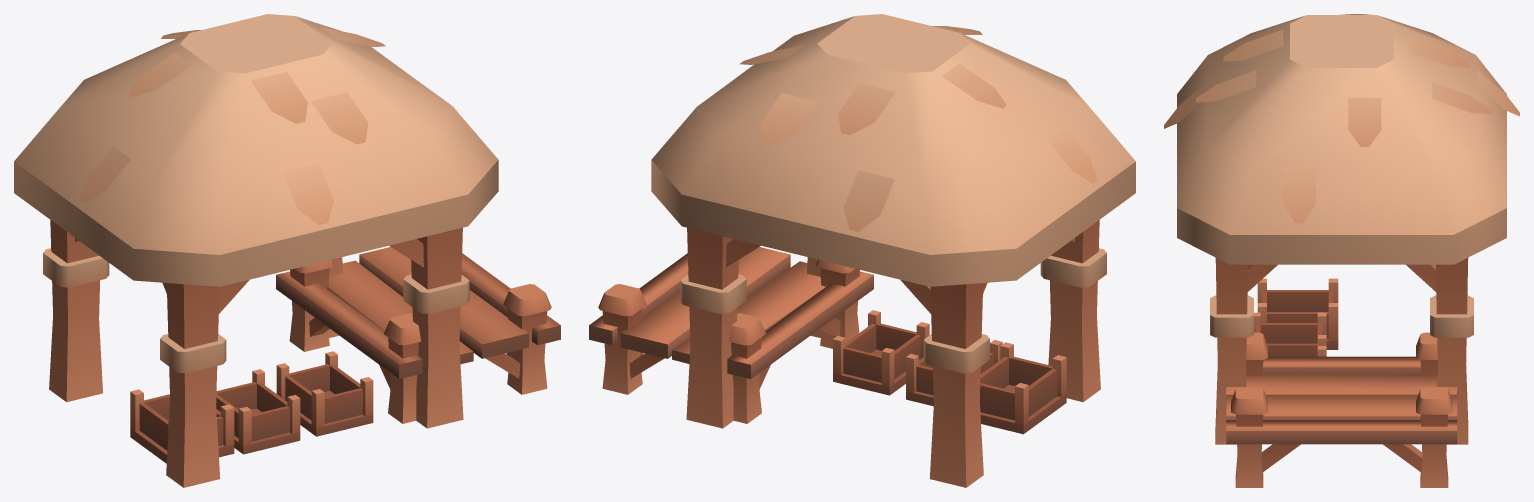
Rendered from london_bld_dock_shed.glb.
3 renders of one model, left to right at view 1: azimuth 30°, elevation 25°; view 2: azimuth 150°, elevation 25°; view 3: azimuth 270°, elevation 25°, orthographic. The views are drawn at different scales.
Visible parts, largest first — view 1: structure-roof, structure-platform-dock-small, crate (×3); view 2: structure-roof, structure-platform-dock-small, crate (×3); view 3: structure-roof, structure-platform-dock-small, crate (×2).
Part boxes in pixels (left/top/right/bottom): structure-roof: left=14, top=14, right=498, bottom=487; structure-platform-dock-small: left=276, top=247, right=560, bottom=423; crate (×3): left=130, top=351, right=373, bottom=463; structure-roof: left=651, top=14, right=1135, bottom=487; structure-platform-dock-small: left=589, top=247, right=873, bottom=423; crate (×3): left=833, top=310, right=1066, bottom=434; structure-roof: left=1164, top=14, right=1519, bottom=444; structure-platform-dock-small: left=1226, top=332, right=1457, bottom=487; crate (×2): left=1254, top=278, right=1338, bottom=356.
Bounding box in the file's own units: 10.63 × 8.5 × 8.08.
7 materials, 7 textured.
